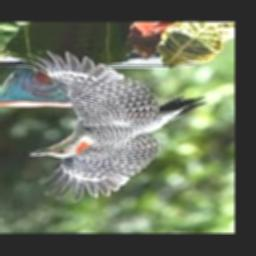Woodpecker: (5, 50, 206, 202)
